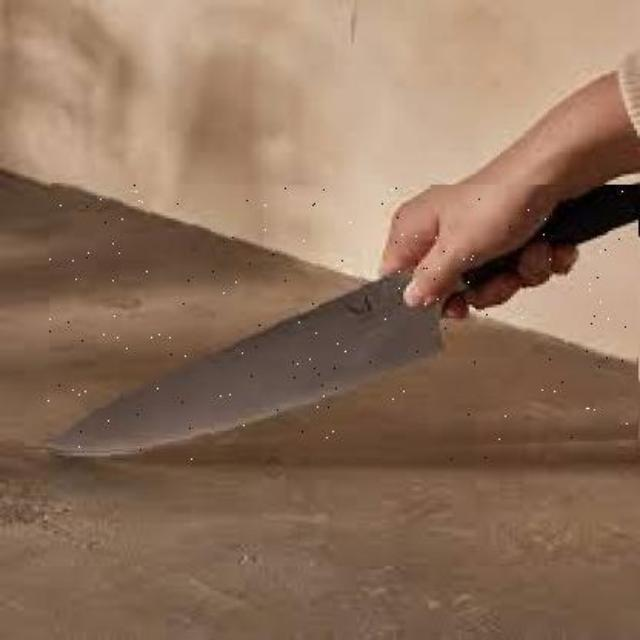Knife: (46, 185, 638, 461)
